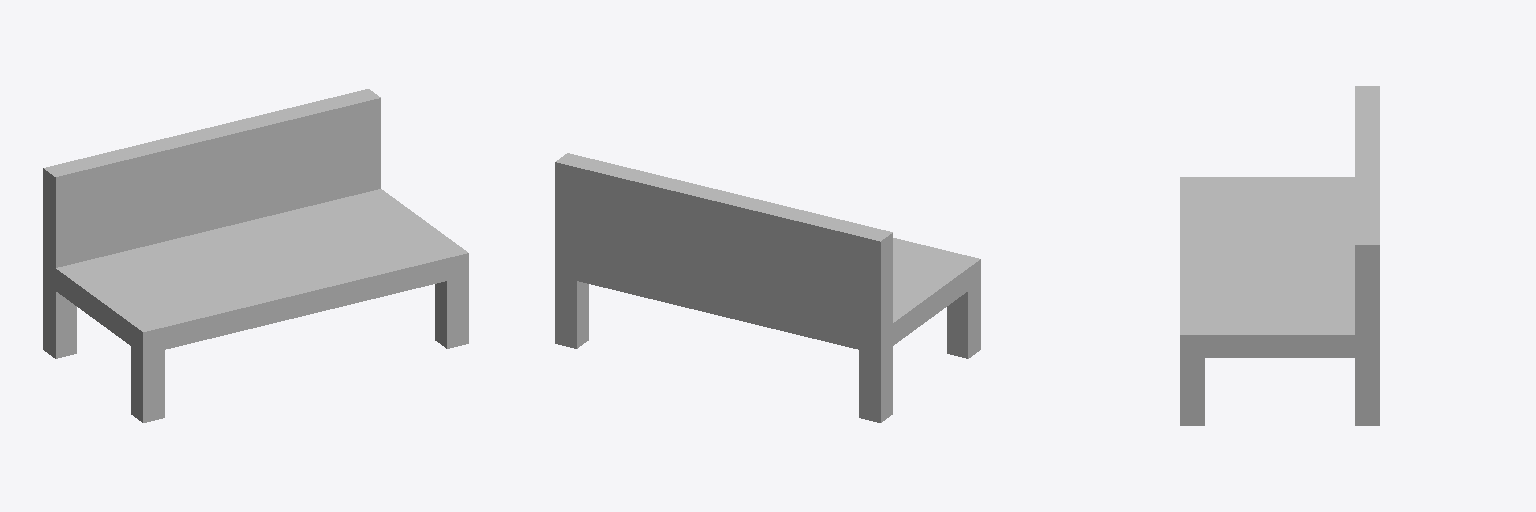
The model's file is obj_bench1.obj.
3 renders of one model, left to right at view 1: azimuth 30°, elevation 25°; view 2: azimuth 150°, elevation 25°; view 3: azimuth 270°, elevation 25°, orthographic.
Visible parts, largest first — view 1: object 1; view 2: object 1; view 3: object 1.
Boxes of the visible parts, <box> form: object 1: <box>43,89,468,422</box>; object 1: <box>555,153,980,422</box>; object 1: <box>1180,86,1379,425</box>.
Bounding box in the file's own units: 1.5 × 0.8 × 0.8.